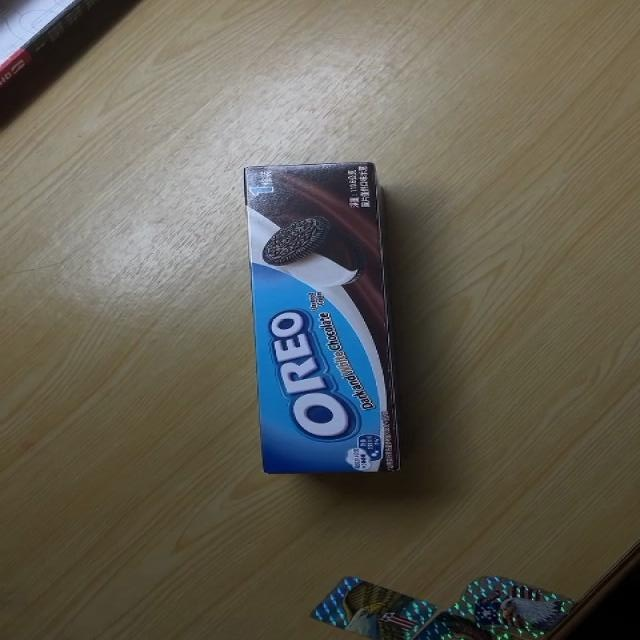Oreo: (243, 160, 401, 474)
